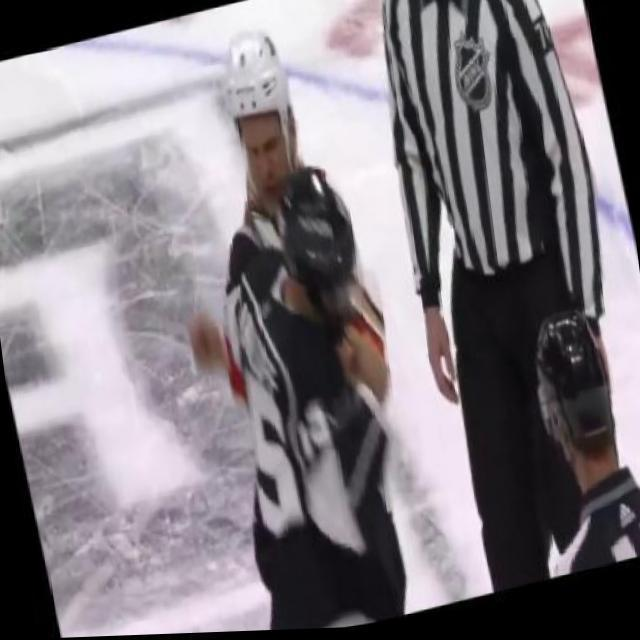fight: (124, 4, 449, 636)
